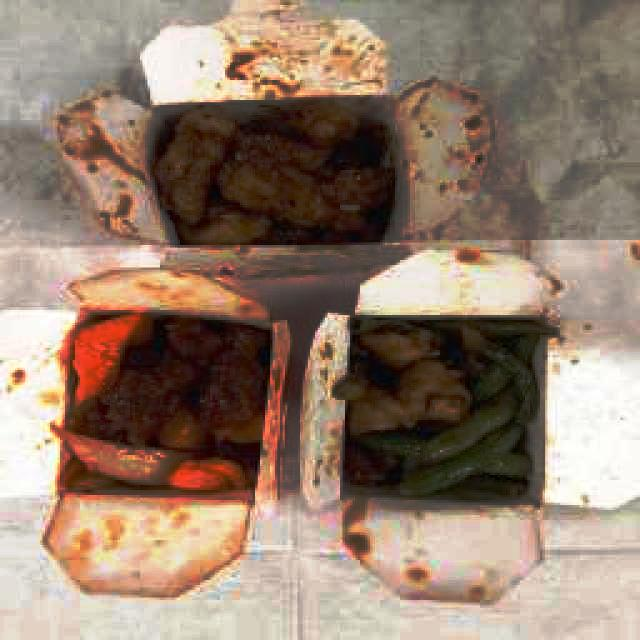Beijing Beef: (50, 310, 272, 496)
Kung Pao Chicken: (149, 96, 397, 247)
String Bean Chicken Breast: (337, 316, 552, 500)
